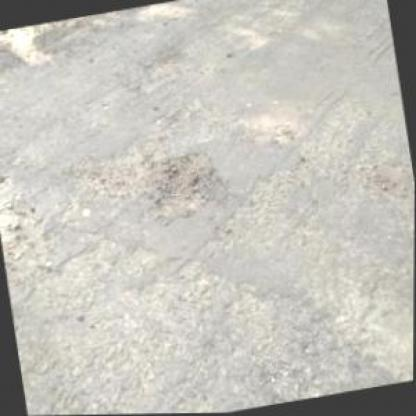pothole: (147, 144, 233, 221)
